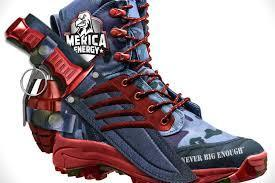Grenade: (19, 62, 62, 153)
Knife: (5, 17, 197, 183)
